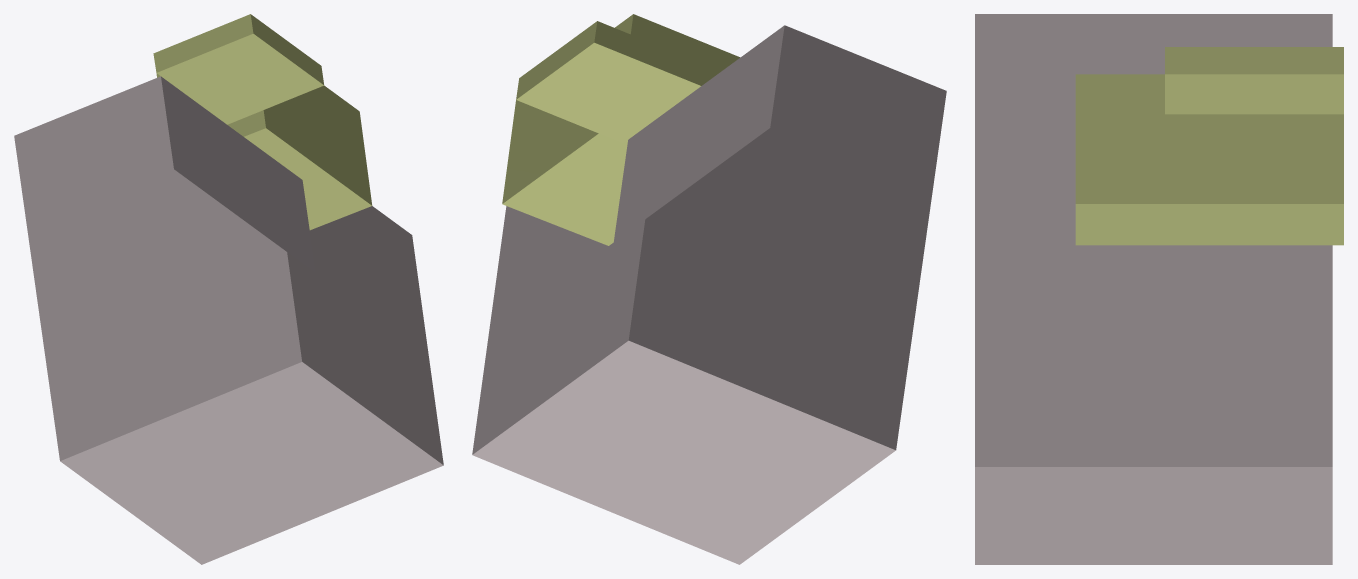
The picture shows the model from 3 angles, left to right: view 1: azimuth 30°, elevation 25°; view 2: azimuth 150°, elevation 25°; view 3: azimuth 270°, elevation 25°; orthographic projection. The views are drawn at different scales.
Visible parts, largest first — view 1: 0_1_3_2_2_2_1_2_2_2; view 2: 0_1_3_2_2_2_1_2_2_2; view 3: 0_1_3_2_2_2_1_2_2_2.
Boxes of the visible parts, bbox=[...] form: 0_1_3_2_2_2_1_2_2_2: bbox=[14, 14, 443, 564]; 0_1_3_2_2_2_1_2_2_2: bbox=[472, 14, 946, 564]; 0_1_3_2_2_2_1_2_2_2: bbox=[975, 14, 1343, 564].
Size of the model in its own units: 14.08 by 18.52 by 12.38.
